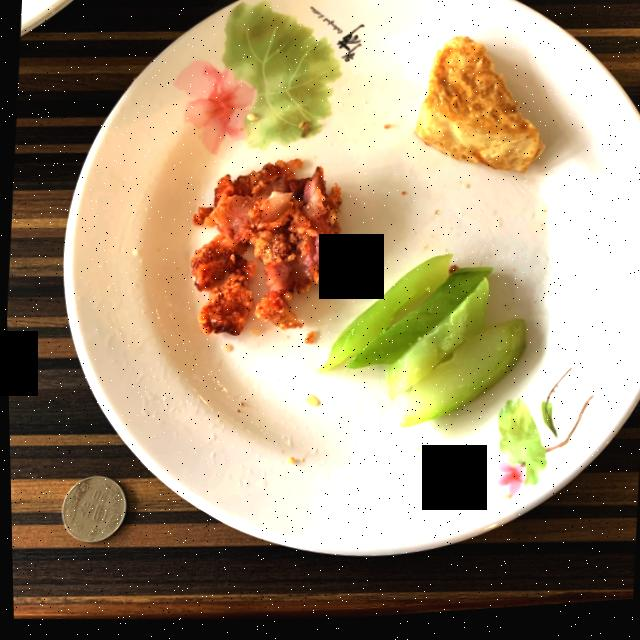coin: (59, 476, 124, 542)
red grilled pork: (189, 162, 340, 335)
